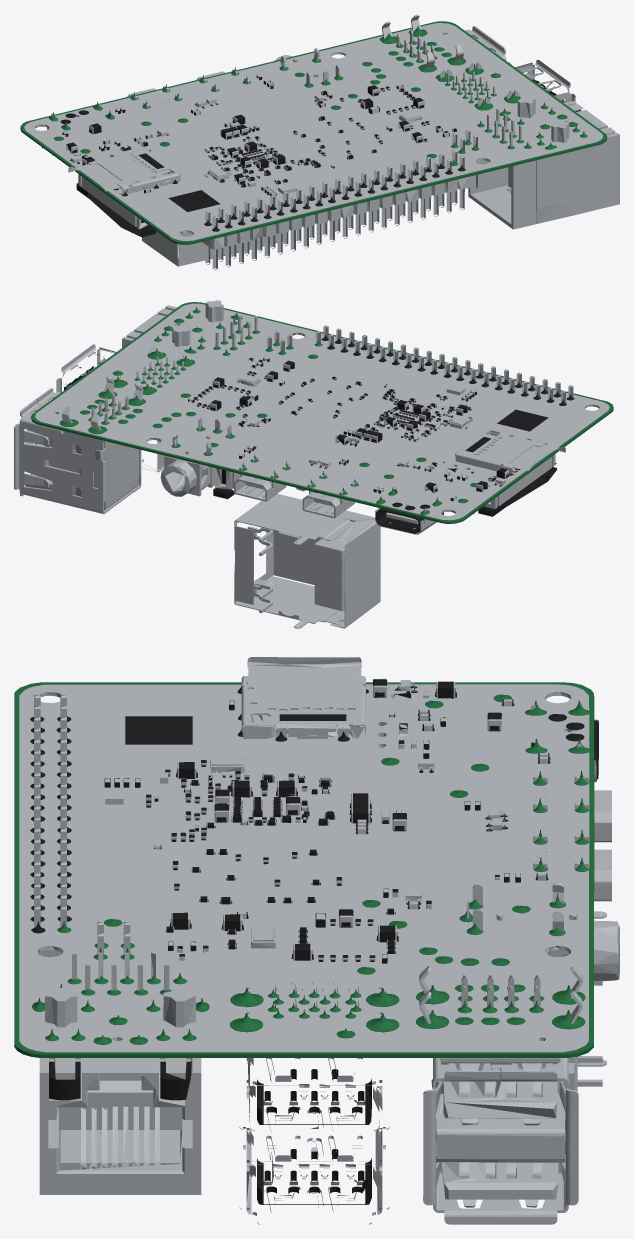
Rendered from raspberry-pi-4b.glb.
The picture shows the model from 3 angles, top to bottom: view 1: azimuth 30°, elevation 25°; view 2: azimuth 150°, elevation 25°; view 3: azimuth 270°, elevation 25°; orthographic projection. The views are drawn at different scales.
Parts seen in each view (by area): view 1: part_0, part_6, part_1; view 2: part_0, part_1, part_6; view 3: part_0, part_6, part_1.
Boxes of the visible parts, <box> form: part_0: <box>24,14,619,270</box>; part_6: <box>20,21,607,244</box>; part_1: <box>42,75,581,237</box>; part_0: <box>14,300,609,628</box>; part_1: <box>64,334,574,533</box>; part_6: <box>31,302,613,523</box>; part_0: <box>19,657,619,1224</box>; part_6: <box>14,682,594,1057</box>; part_1: <box>30,679,598,1204</box>.
Size of the model in its own units: 92.63 by 29.67 by 58.48.
